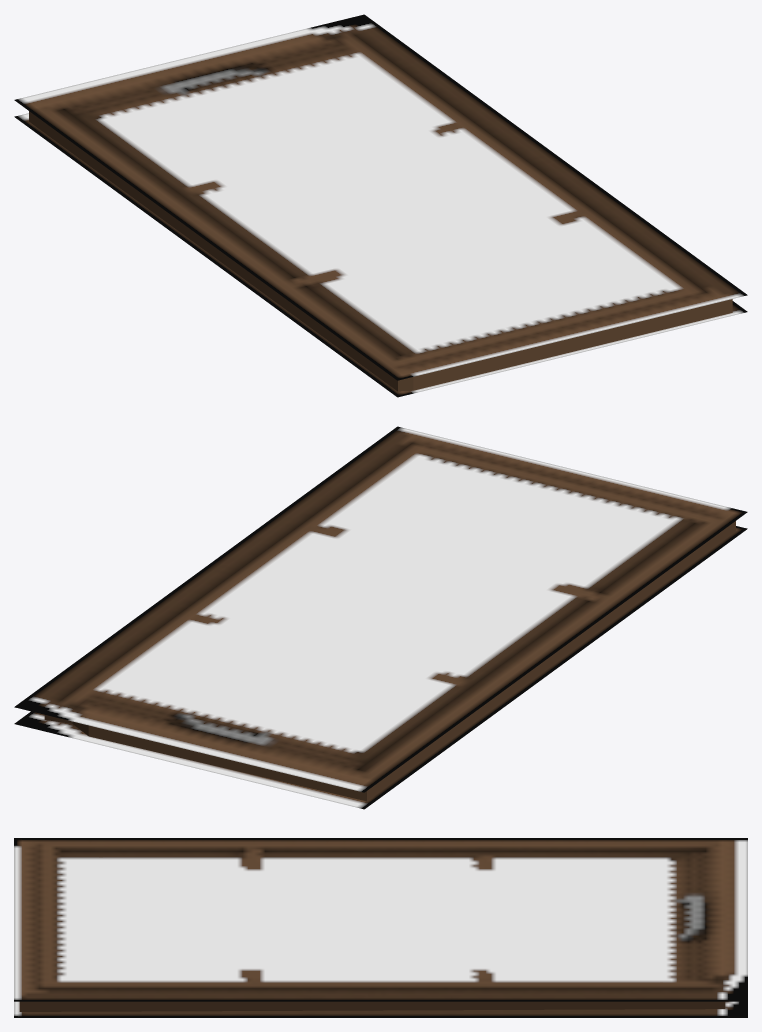
File: pz_native_fixtures_windows_wood_105_frame.obj
3 renders of one model, top to bottom at view 1: azimuth 30°, elevation 25°; view 2: azimuth 150°, elevation 25°; view 3: azimuth 270°, elevation 25°, orthographic. The views are drawn at different scales.
Parts seen in each view (by area): view 1: pz_native_fixtures_windows_wood_105_frame; view 2: pz_native_fixtures_windows_wood_105_frame; view 3: pz_native_fixtures_windows_wood_105_frame.
Part boxes in pixels (x1,y1,x2,y2): pz_native_fixtures_windows_wood_105_frame: (14,14,747,397); pz_native_fixtures_windows_wood_105_frame: (14,426,747,809); pz_native_fixtures_windows_wood_105_frame: (14,838,747,1017).
Bounding box in the file's own units: 0.875 × 0.04 × 1.66.
Materials: 1 (1 with a texture image).
